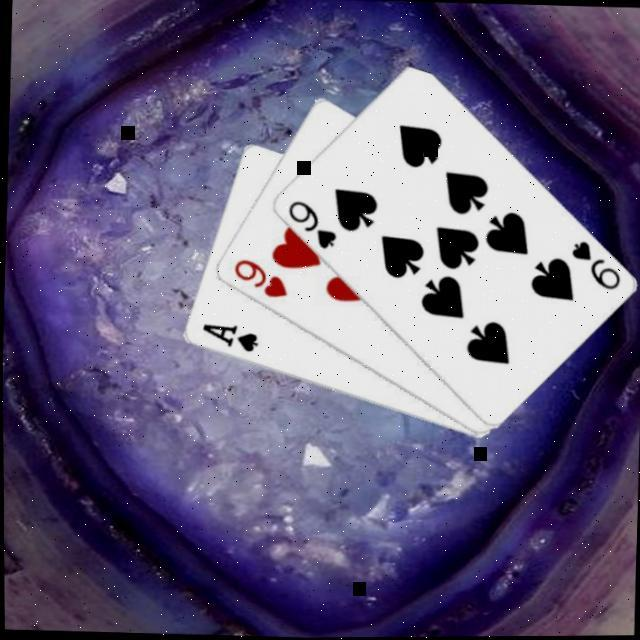9H: (226, 253, 288, 300)
9S: (280, 194, 338, 250), (564, 236, 622, 292)
AS: (195, 318, 258, 353)
